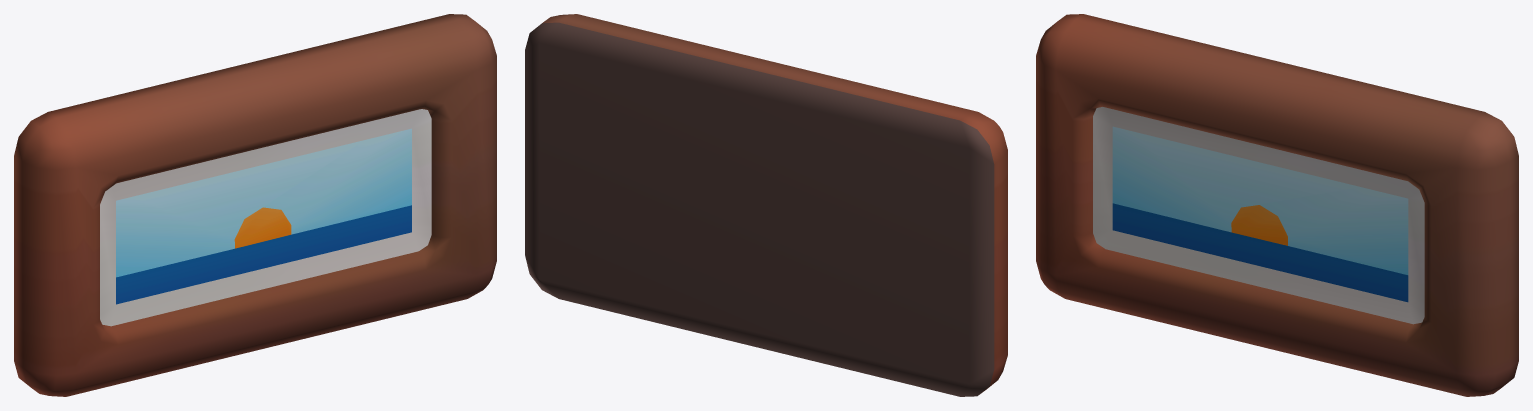
Rendered from Picture_09.glb.
3 views of the same model, side by side, from view 1: azimuth 30°, elevation 25°; view 2: azimuth 150°, elevation 25°; view 3: azimuth 330°, elevation 25° (orthographic).
Parts seen in each view (by area): view 1: Picture_09; view 2: Picture_09; view 3: Picture_09.
Boxes of the visible parts, x1=… form: Picture_09: x1=14, y1=14, x2=496, y2=396; Picture_09: x1=525, y1=14, x2=1007, y2=396; Picture_09: x1=1036, y1=14, x2=1518, y2=396.
Bounding box in the file's own units: 0.4773 × 0.2687 × 0.0585.
Materials: 1 (1 with a texture image).
